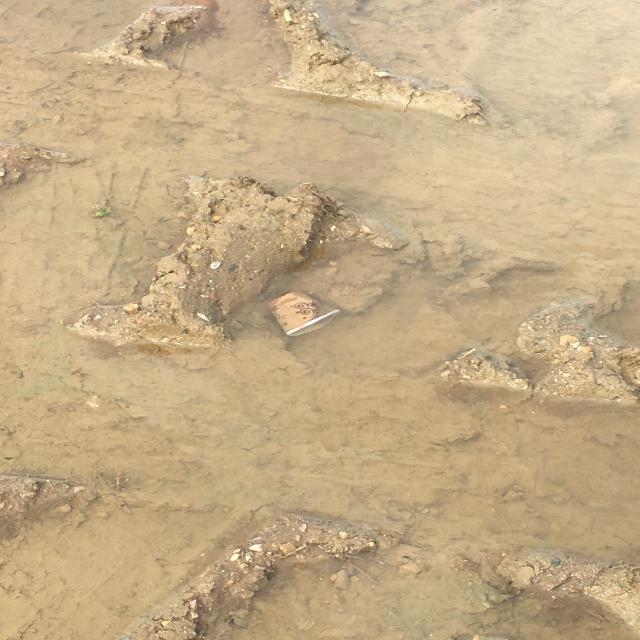Plastic cup: (263, 286, 342, 339)
